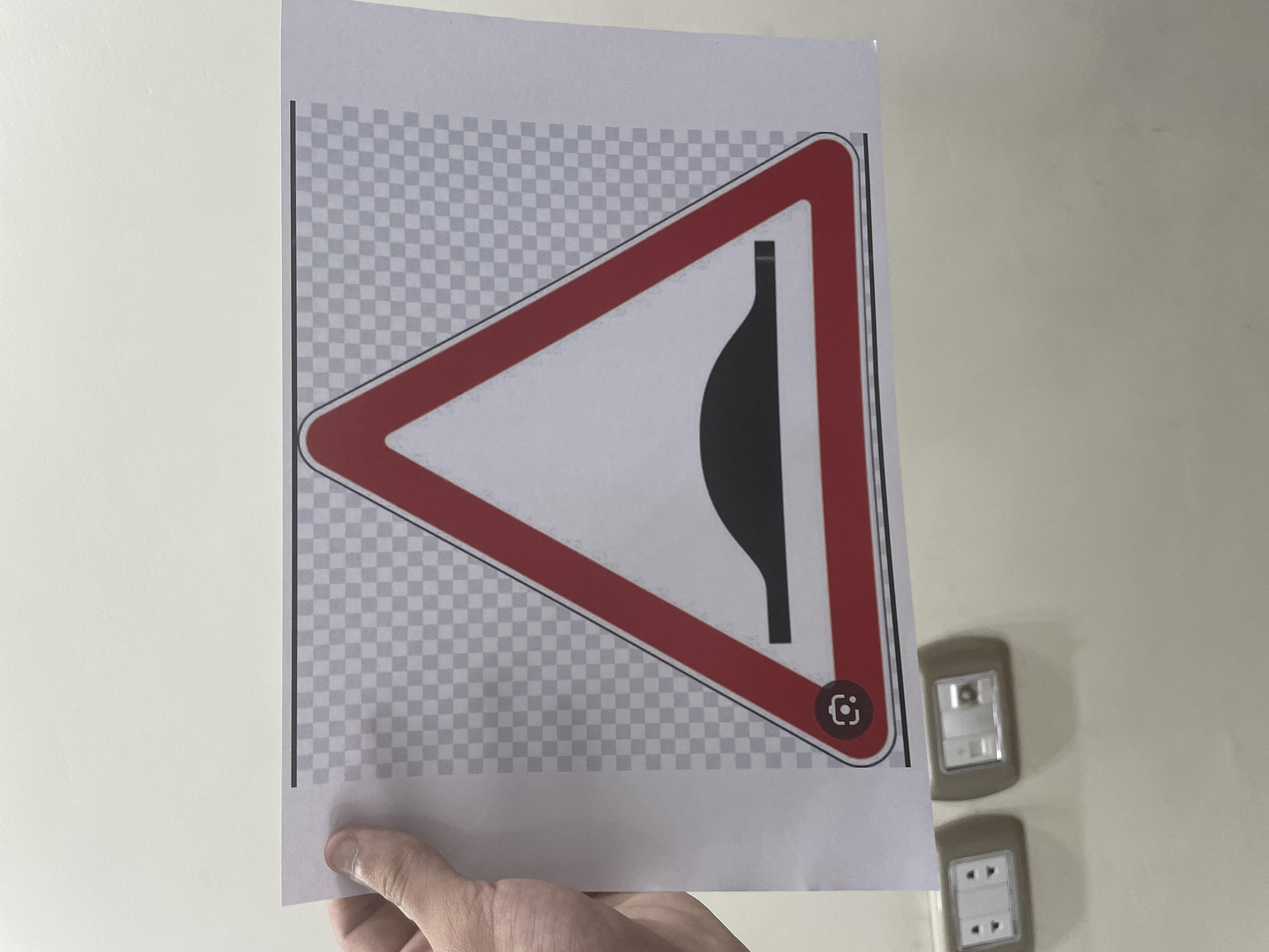Hump: (230, 220, 1100, 674)
